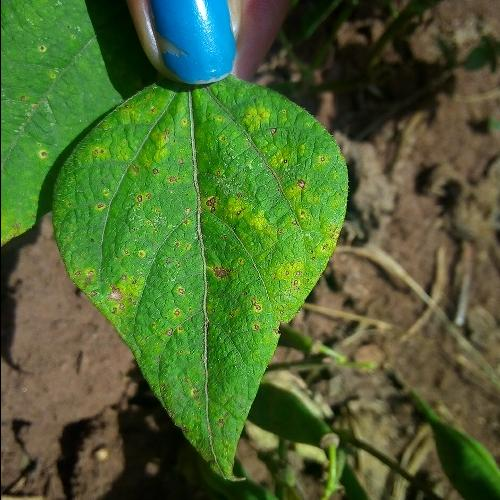embun tepung: (181, 94, 288, 324), (60, 224, 166, 320)
